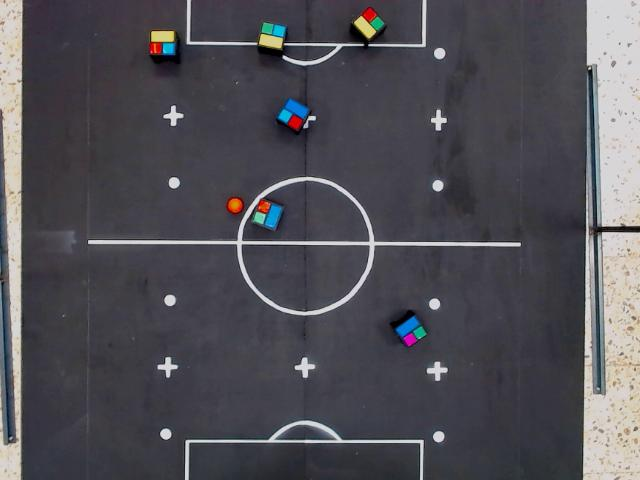robot: (350, 4, 389, 42), (275, 96, 314, 134), (393, 314, 429, 350), (251, 197, 285, 233), (255, 18, 290, 52), (147, 27, 179, 59)
